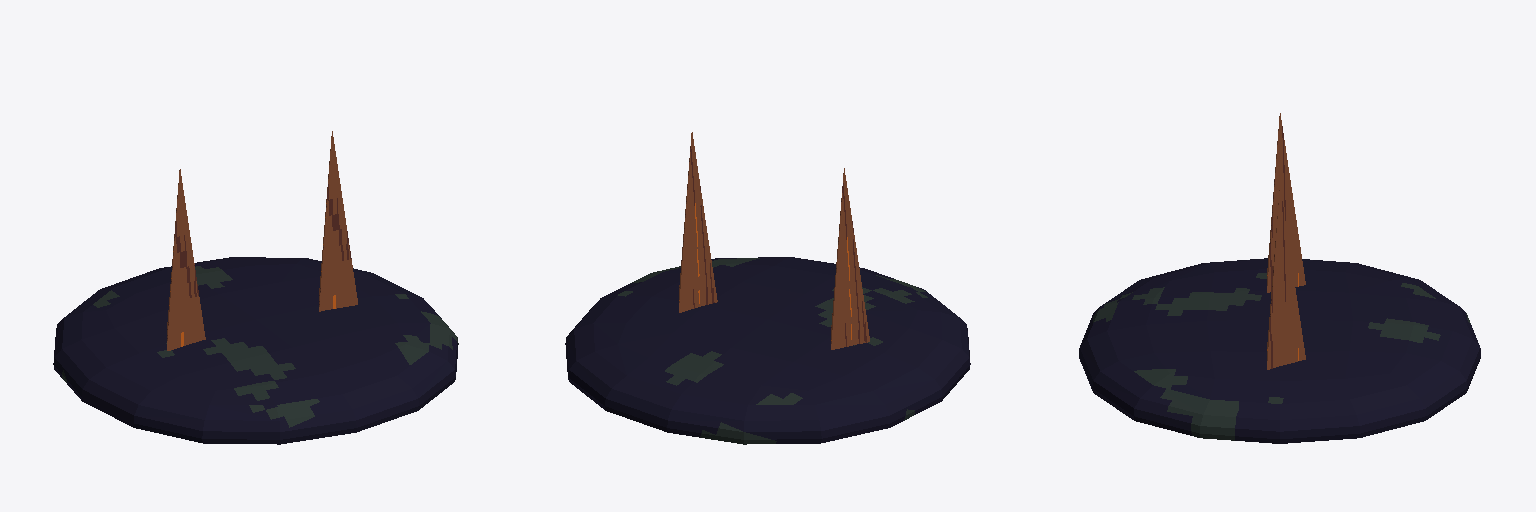
3 renders of one model, left to right at view 1: azimuth 30°, elevation 25°; view 2: azimuth 150°, elevation 25°; view 3: azimuth 270°, elevation 25°, orthographic.
Parts seen in each view (by area): view 1: Base.001, Cone.002, Cone.001; view 2: Base.001, Cone.001, Cone.002; view 3: Base.001, Cone.002, Cone.001.
Part boxes in pixels (left/top/right/bottom): Base.001: left=53, top=257, right=458, bottom=444; Cone.002: left=319, top=131, right=357, bottom=311; Cone.001: left=167, top=169, right=205, bottom=350; Base.001: left=565, top=257, right=970, bottom=444; Cone.001: left=831, top=168, right=869, bottom=349; Cone.002: left=679, top=132, right=717, bottom=312; Base.001: left=1079, top=258, right=1480, bottom=443; Cone.002: left=1267, top=187, right=1305, bottom=369; Cone.001: left=1267, top=113, right=1305, bottom=292.
Bounding box in the file's own units: 0.9167 × 0.5491 × 0.9167.
2 materials, 2 textured.